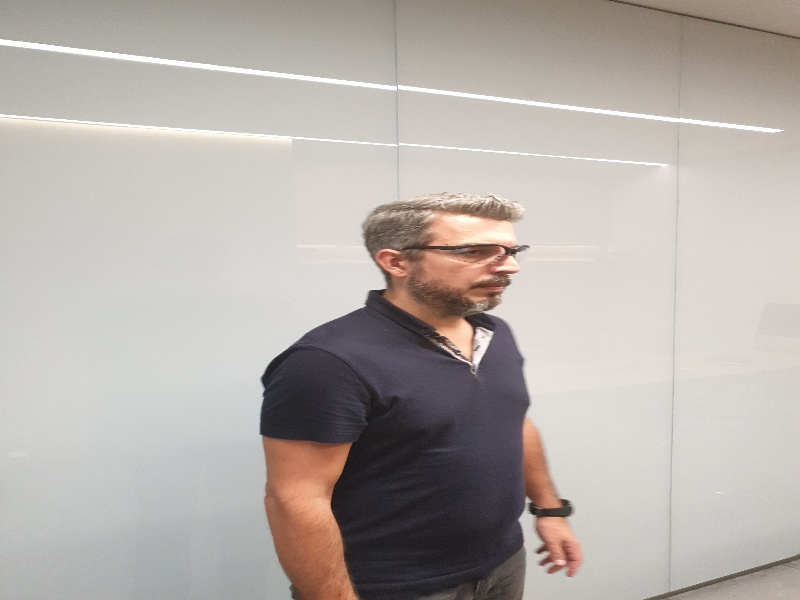Gozluk: (403, 242, 528, 262)
